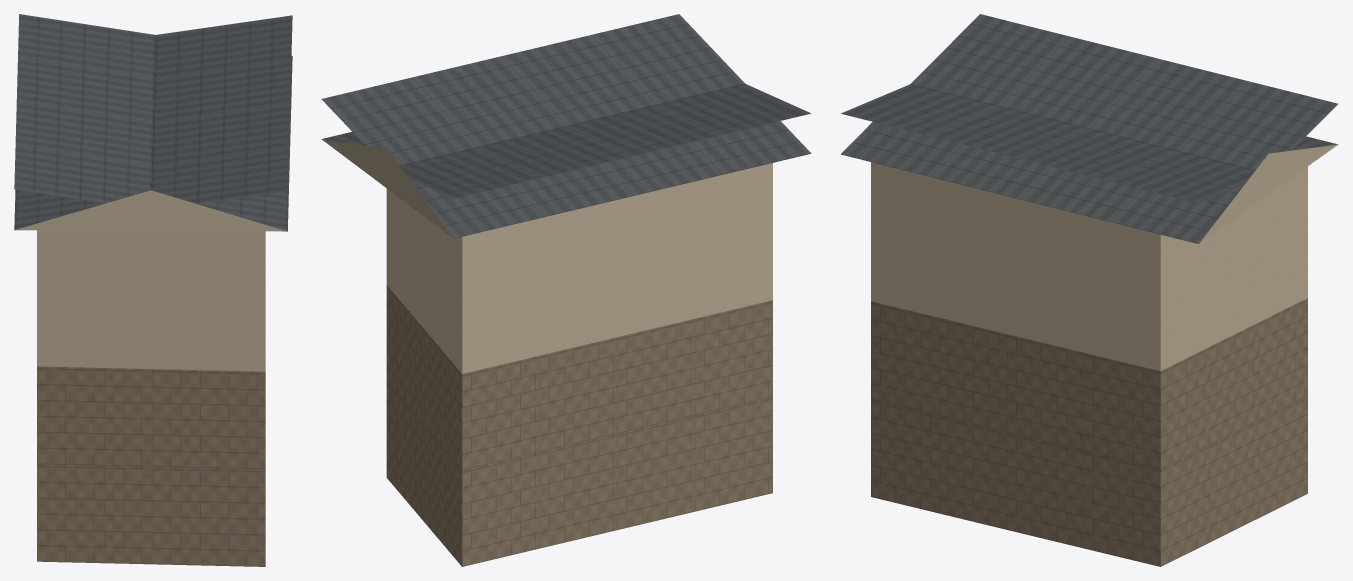
Rendered from bld_c38_36_286.gltf.
3 renders of one model, left to right at view 1: azimuth 30°, elevation 25°; view 2: azimuth 150°, elevation 25°; view 3: azimuth 270°, elevation 25°, orthographic.
Visible parts, largest first — view 1: bld_c38_36_286; view 2: bld_c38_36_286; view 3: bld_c38_36_286.
Boxes of the visible parts, x1=… form: bld_c38_36_286: x1=14, y1=14, x2=292, y2=566; bld_c38_36_286: x1=321, y1=14, x2=811, y2=566; bld_c38_36_286: x1=841, y1=14, x2=1338, y2=566.
Size of the model in its own units: 9.98 by 9.5 by 11.09.
4 materials, 4 textured.
